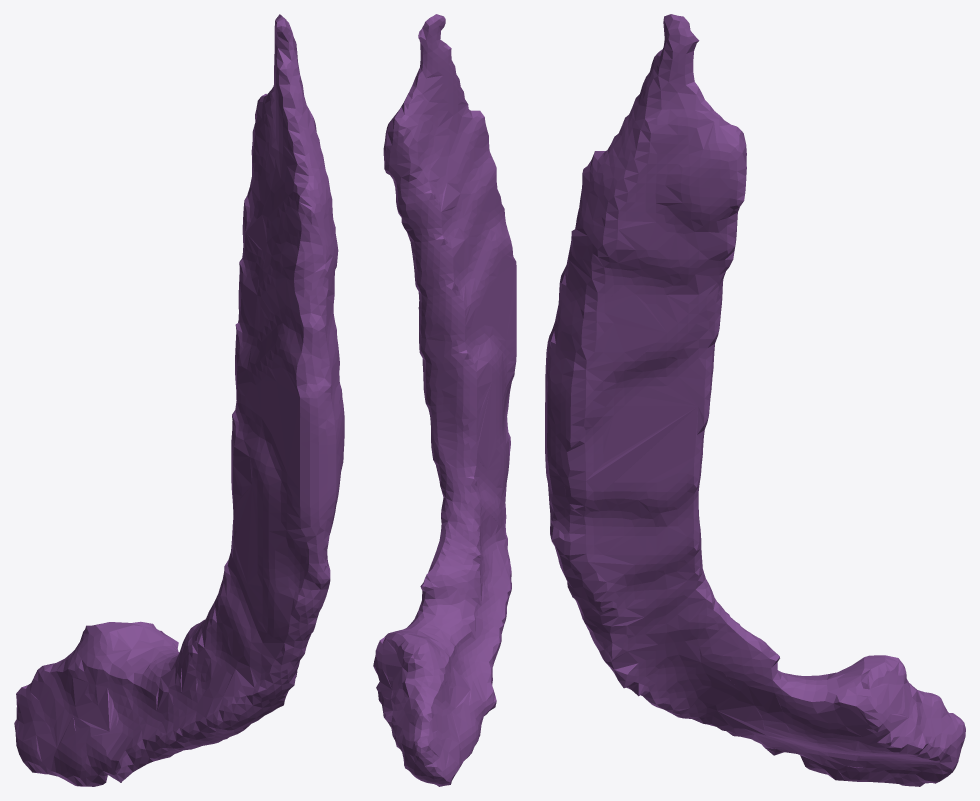
The model's file is Model_10063_LH__Area_29d_of_cortex_(A29d).obj.
The picture shows the model from 3 angles, left to right: view 1: azimuth 30°, elevation 25°; view 2: azimuth 150°, elevation 25°; view 3: azimuth 270°, elevation 25°; orthographic projection. The views are drawn at different scales.
Bounding box in the file's own units: 1.91 × 8.66 × 3.96.
